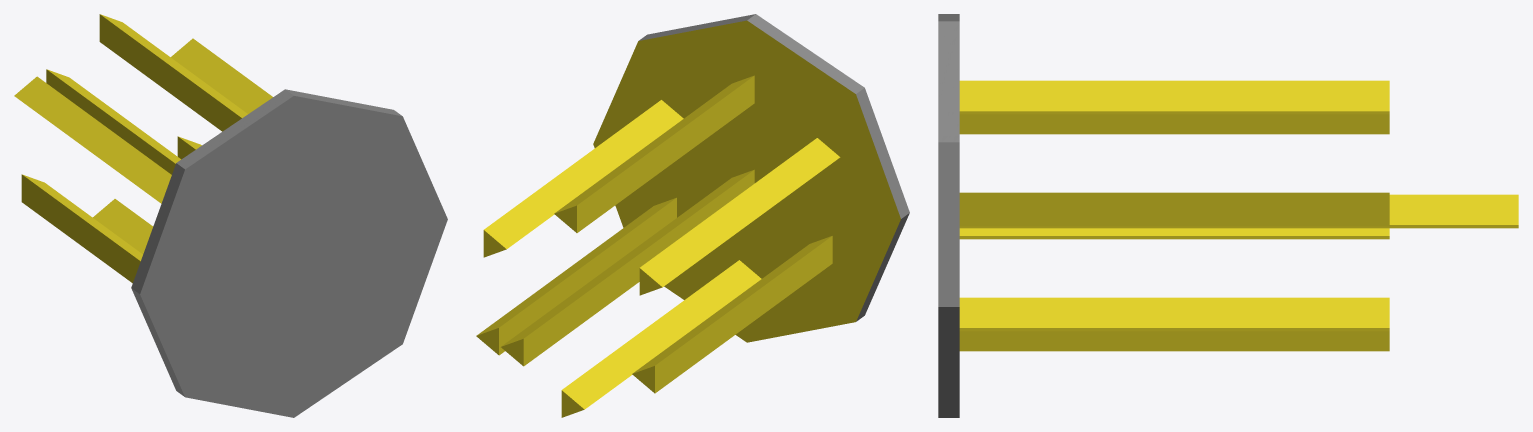
The model's file is dirLight.glb.
The picture shows the model from 3 angles, left to right: view 1: azimuth 30°, elevation 25°; view 2: azimuth 150°, elevation 25°; view 3: azimuth 270°, elevation 25°; orthographic projection. The views are drawn at different scales.
Visible parts, largest first — view 1: DirLight; view 2: DirLight; view 3: DirLight.
Part boxes in pixels (x1,y1,x2,y2): DirLight: (14, 14, 447, 417); DirLight: (476, 14, 909, 417); DirLight: (938, 14, 1518, 417).
Size of the model in its own units: 0.04 by 0.04 by 0.054.
